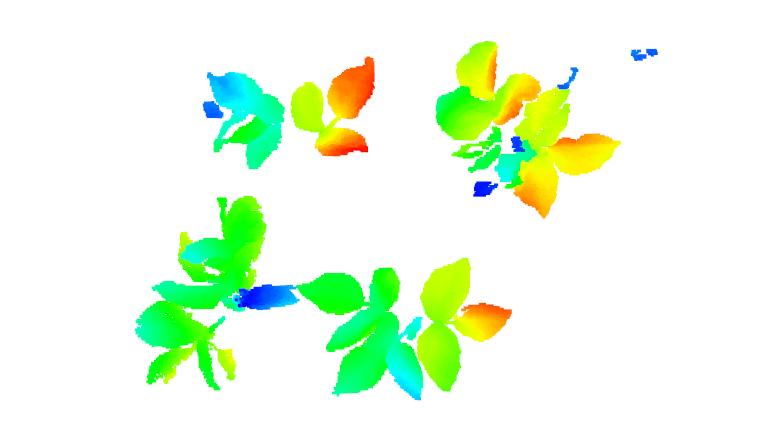mungbean: (435, 38, 617, 218), (296, 257, 514, 402), (131, 170, 274, 391), (200, 55, 382, 172)
